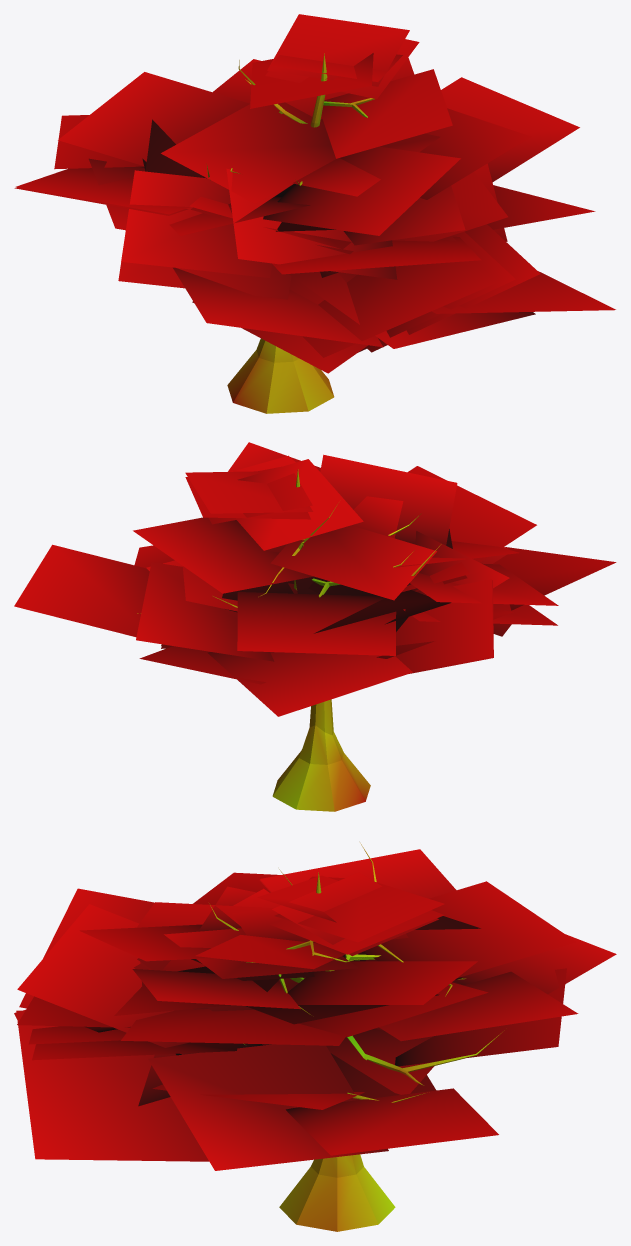
File: large_tree_1.glb
3 renders of one model, top to bottom at view 1: azimuth 30°, elevation 25°; view 2: azimuth 150°, elevation 25°; view 3: azimuth 270°, elevation 25°, orthographic. The views are drawn at different scales.
Parts seen in each view (by area): view 1: Tree_1_Leaves, Tree_1_Wood; view 2: Tree_1_Leaves, Tree_1_Wood; view 3: Tree_1_Leaves, Tree_1_Wood.
Boxes of the visible parts, bbox=[...] form: Tree_1_Leaves: bbox=[14, 14, 615, 373]; Tree_1_Wood: bbox=[206, 53, 374, 413]; Tree_1_Leaves: bbox=[14, 442, 616, 716]; Tree_1_Wood: bbox=[137, 469, 441, 811]; Tree_1_Leaves: bbox=[14, 849, 616, 1170]; Tree_1_Wood: bbox=[209, 843, 504, 1231].
Size of the model in its own units: 48.88 by 30.06 by 46.41.
